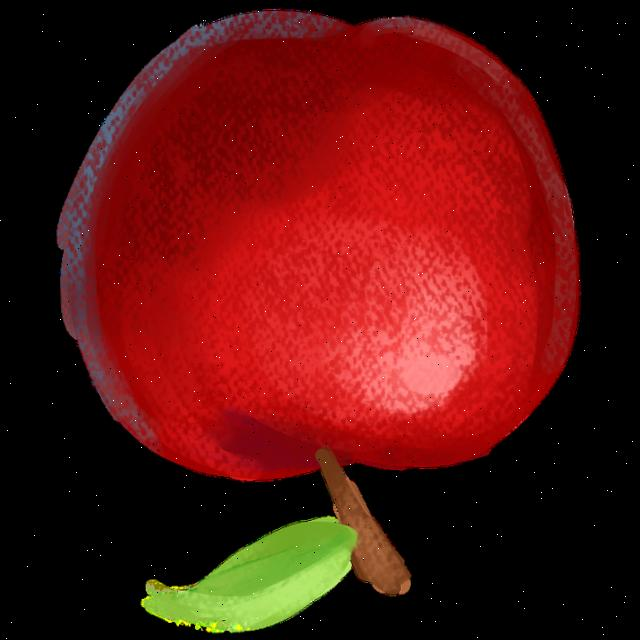Apel: (48, 0, 587, 491)
